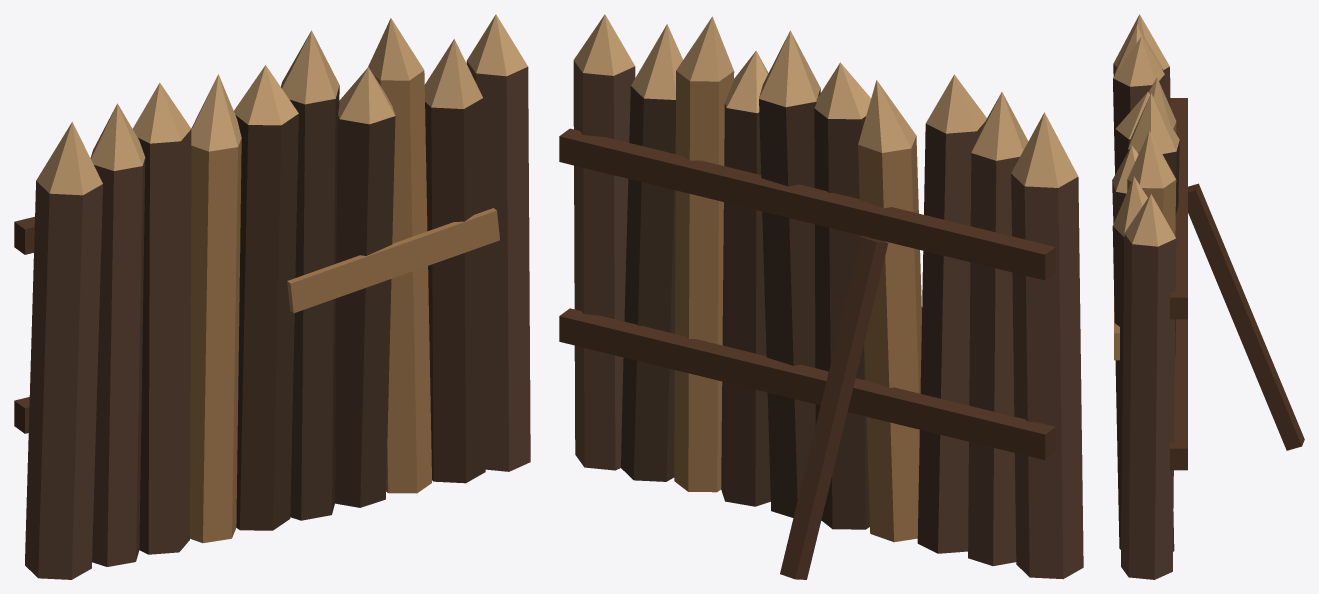
The model's file is Palisade_Segment_C.fbx.
3 renders of one model, left to right at view 1: azimuth 30°, elevation 25°; view 2: azimuth 150°, elevation 25°; view 3: azimuth 270°, elevation 25°, orthographic. The views are drawn at different scales.
Visible parts, largest first — view 1: Palisade_Segment_C; view 2: Palisade_Segment_C; view 3: Palisade_Segment_C.
Boxes of the visible parts, bbox=[...] form: Palisade_Segment_C: bbox=[14, 14, 530, 579]; Palisade_Segment_C: bbox=[559, 14, 1083, 579]; Palisade_Segment_C: bbox=[1112, 14, 1304, 579].
Size of the model in its own units: 4.05 by 3.7 by 1.62.
